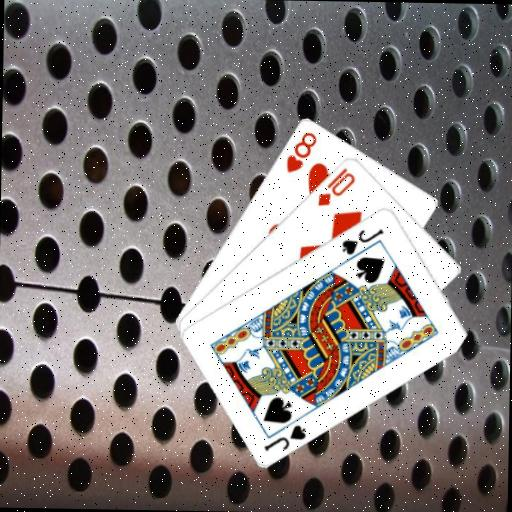10D: (314, 164, 357, 208)
8H: (283, 128, 319, 175)
JS: (261, 421, 309, 454), (339, 225, 386, 257)
